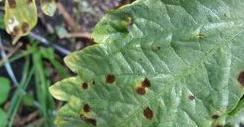Tomato Early blight leaf: (30, 0, 244, 127)
